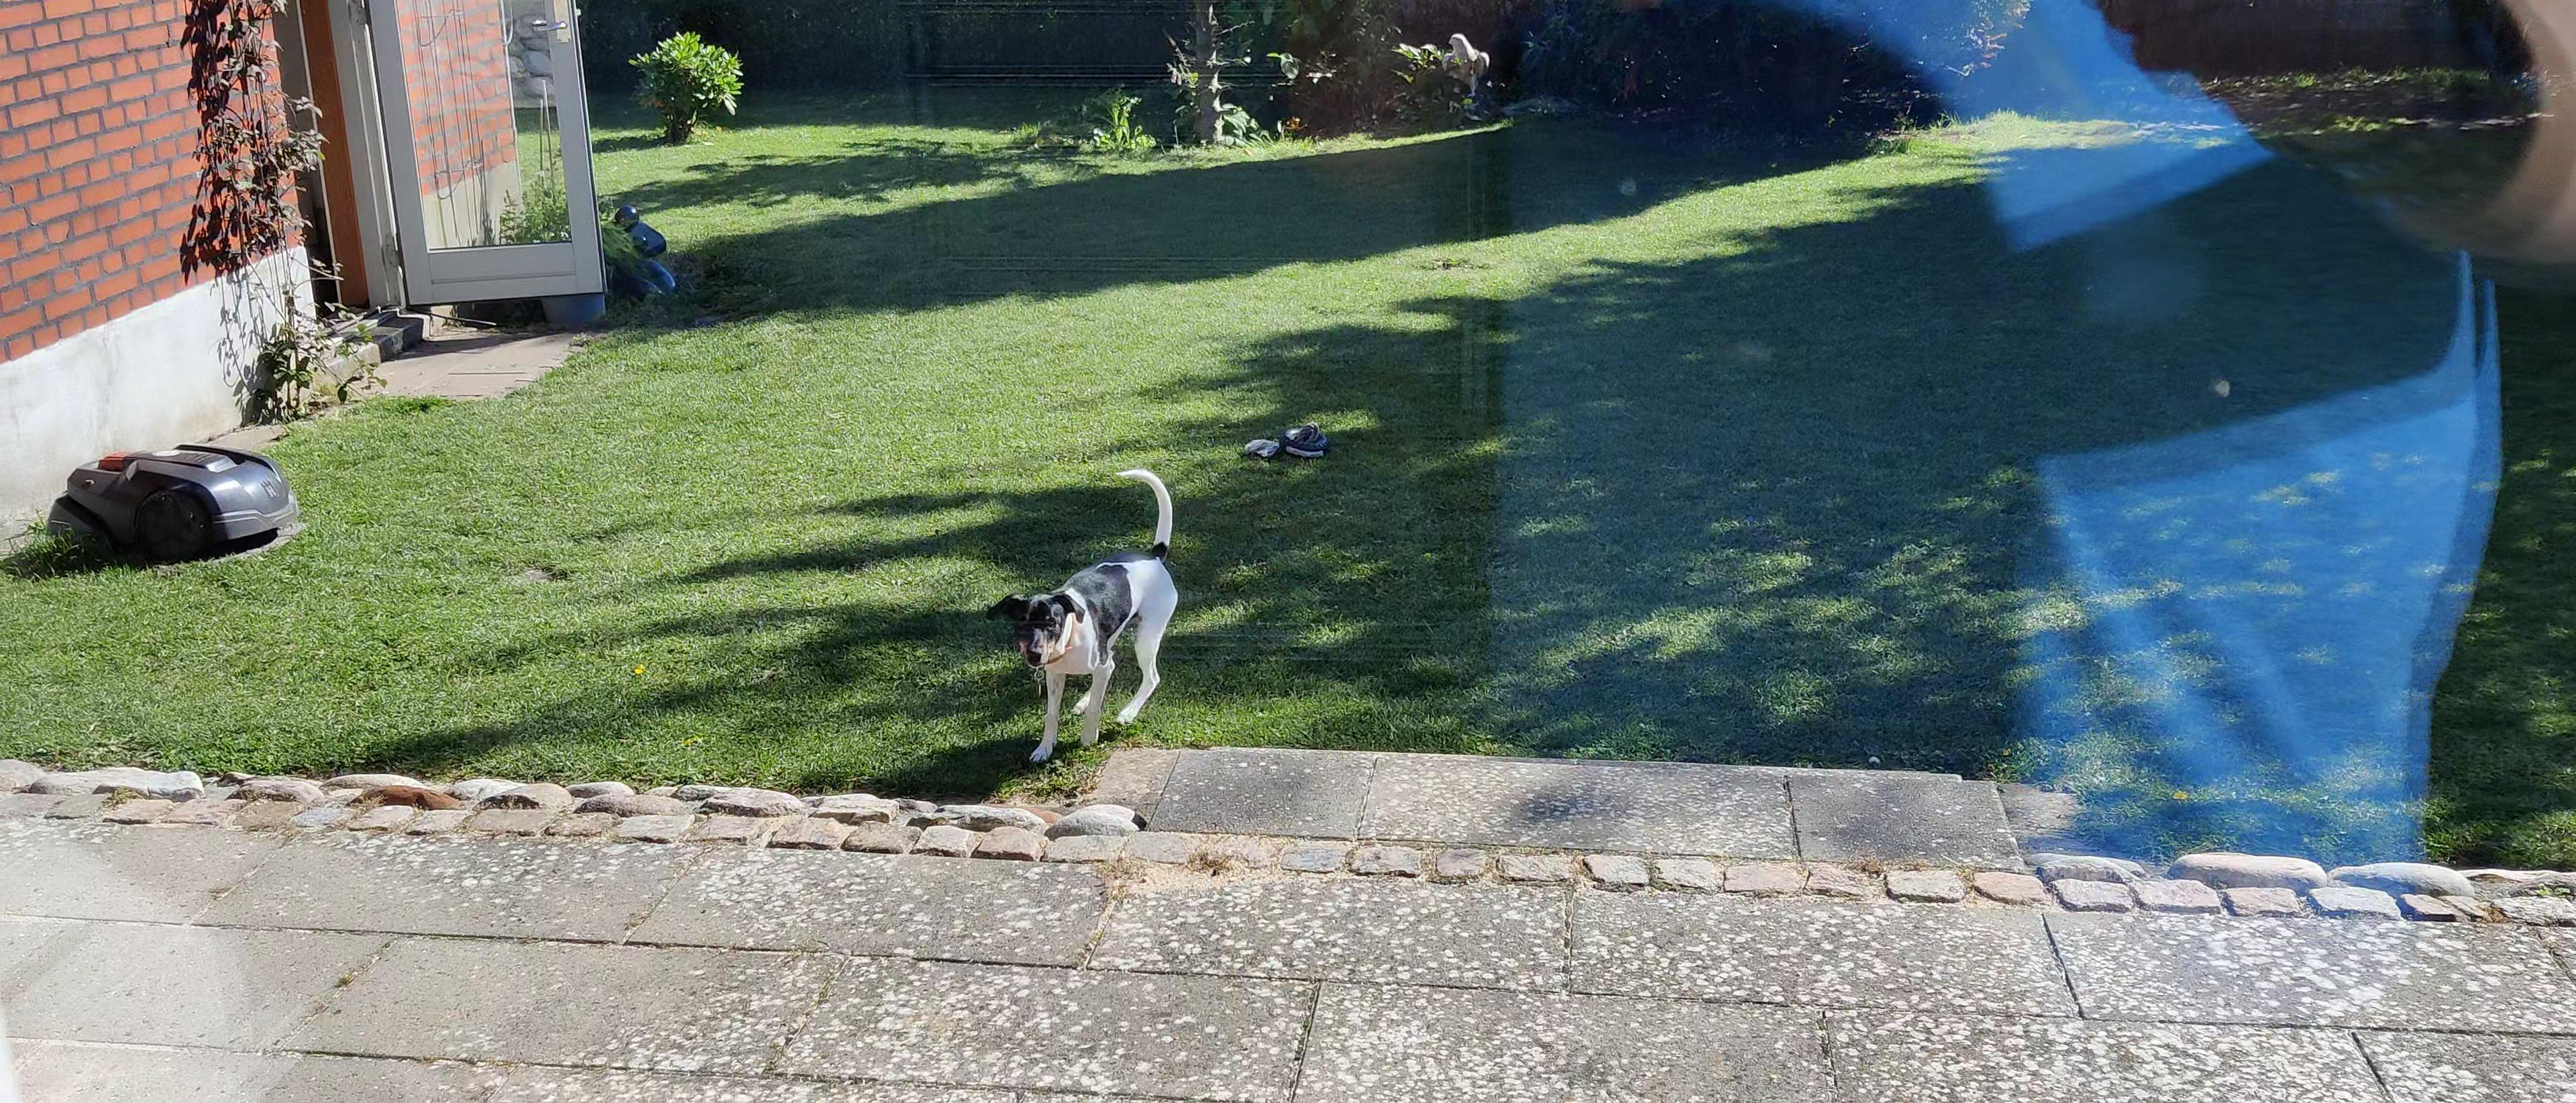Dog: (976, 460, 1199, 773)
